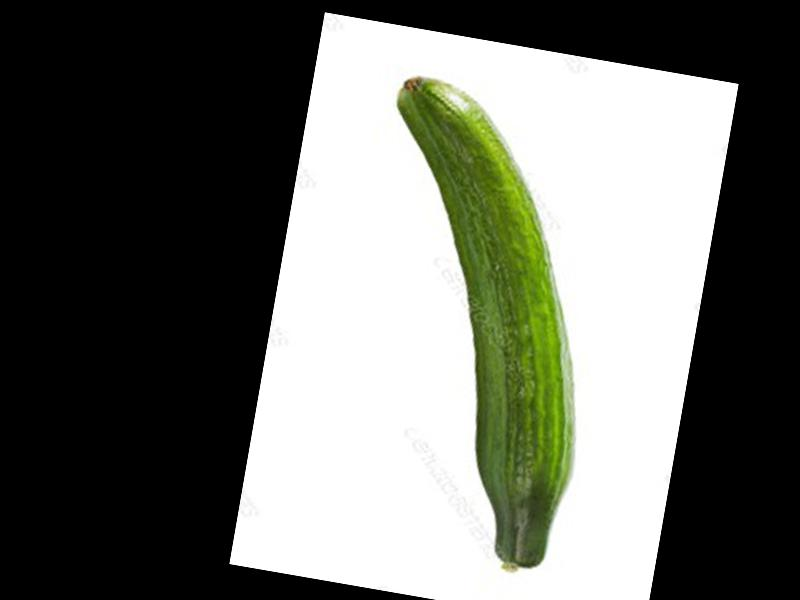Cucumber: (319, 73, 633, 580)
